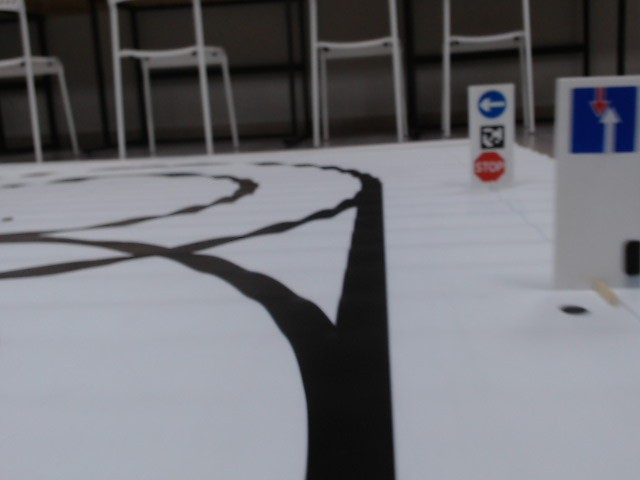Stop: (473, 152, 508, 182)
priority_movement: (569, 85, 640, 155)
